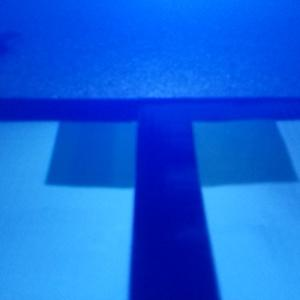bottom_left: (45, 97, 192, 188)
bottom_right: (138, 97, 297, 182)
